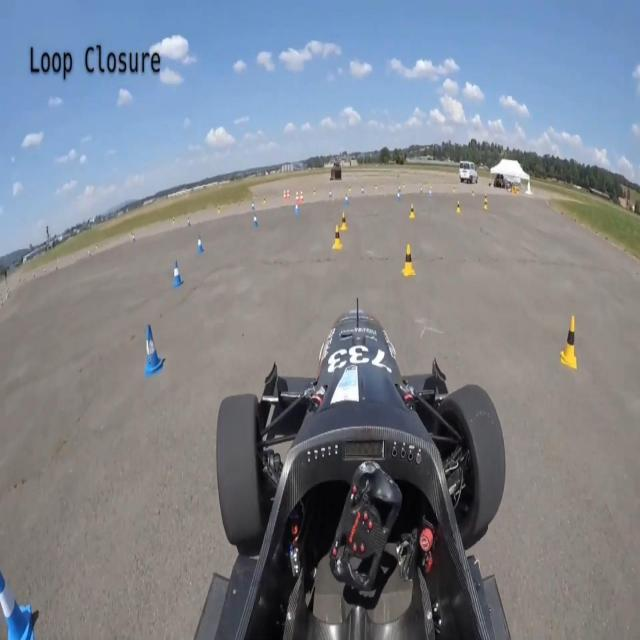blue_cone: (0, 536, 38, 640), (136, 322, 164, 376), (170, 258, 183, 287), (196, 234, 205, 256), (253, 214, 258, 231), (295, 203, 300, 219), (250, 200, 256, 213), (186, 216, 192, 228), (396, 190, 402, 202), (345, 192, 349, 206), (428, 187, 432, 201), (328, 188, 332, 200)
large_orange_cone: (300, 188, 305, 204), (295, 191, 300, 205), (282, 190, 286, 202), (287, 188, 290, 201)
yellow_cone: (558, 307, 578, 370), (401, 244, 414, 281), (330, 222, 342, 253), (340, 208, 349, 232), (409, 203, 417, 221), (456, 200, 462, 216), (216, 203, 221, 216), (484, 191, 488, 204), (171, 215, 175, 227), (483, 201, 488, 210), (262, 195, 266, 205), (312, 188, 316, 198), (472, 186, 475, 198), (452, 185, 456, 194)
